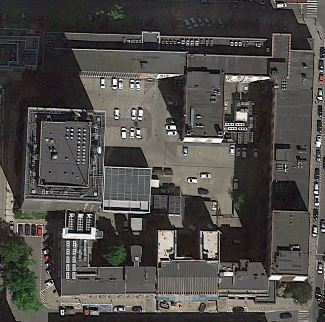block of flats: (43, 25, 318, 304), (20, 101, 150, 213)
